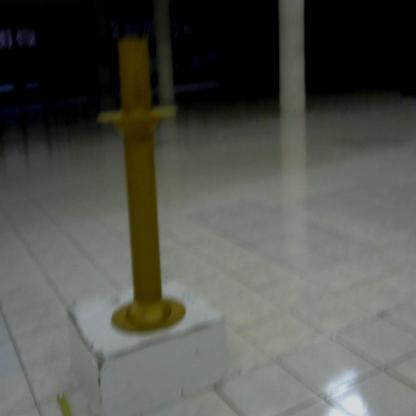pole: (91, 32, 197, 344)
